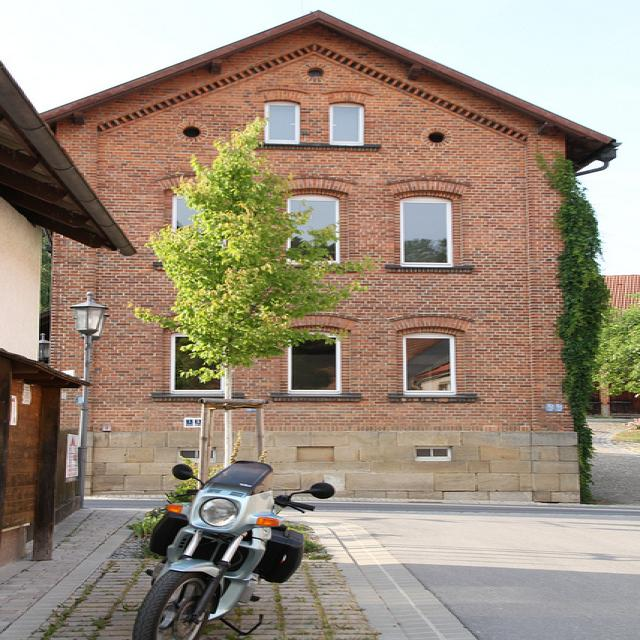motor: (133, 462, 336, 640)
